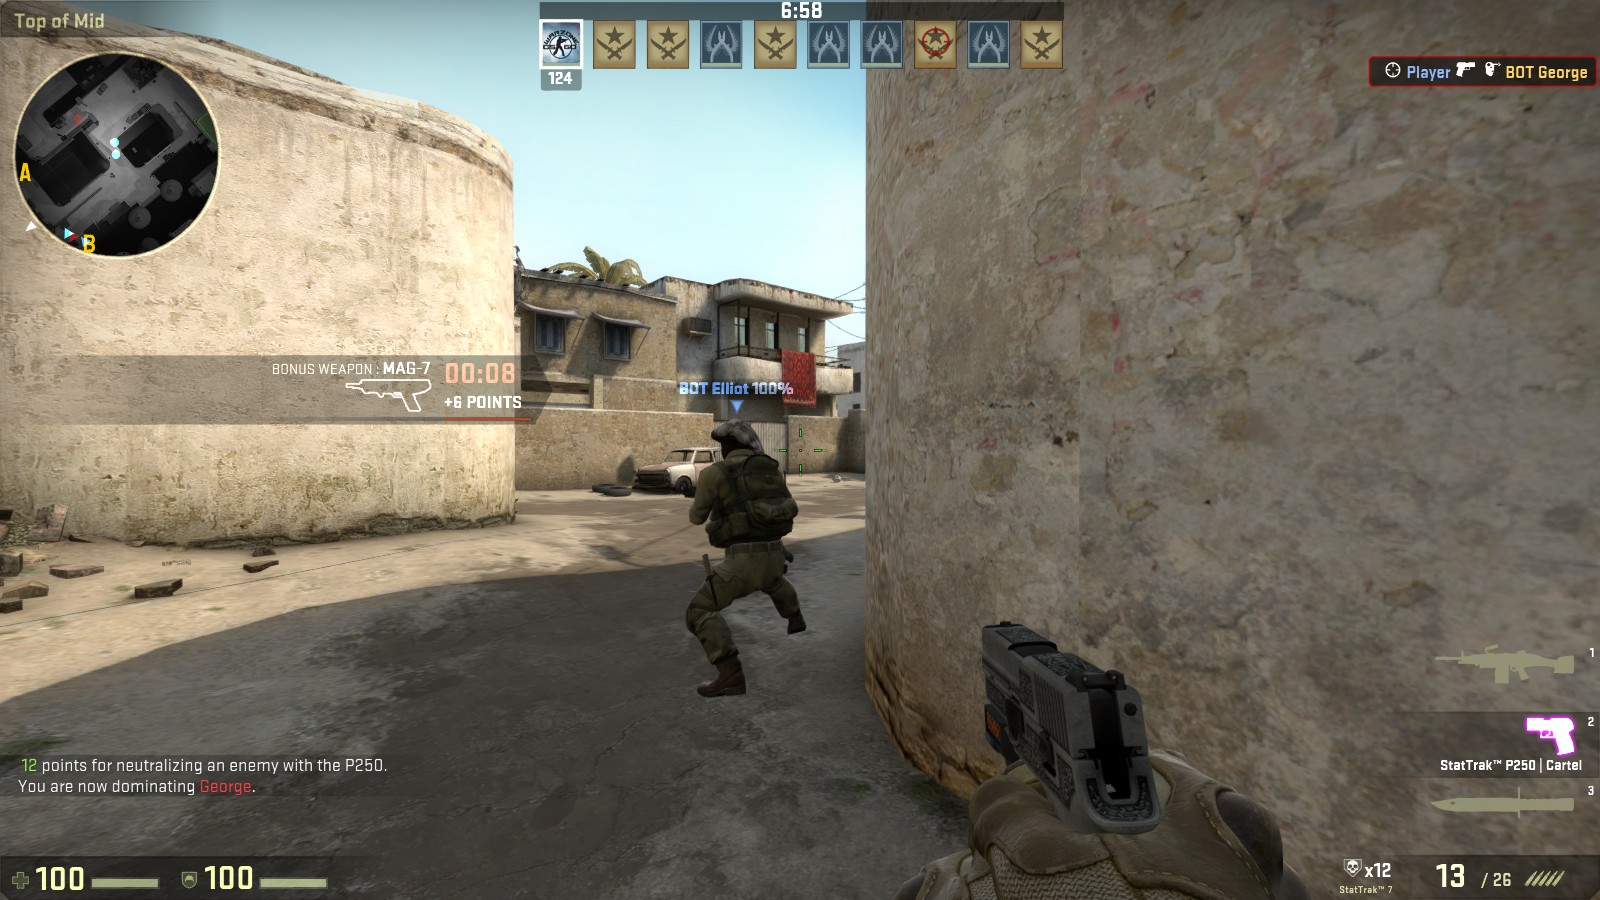c: (688, 418, 803, 695)
ch: (708, 419, 764, 462)
